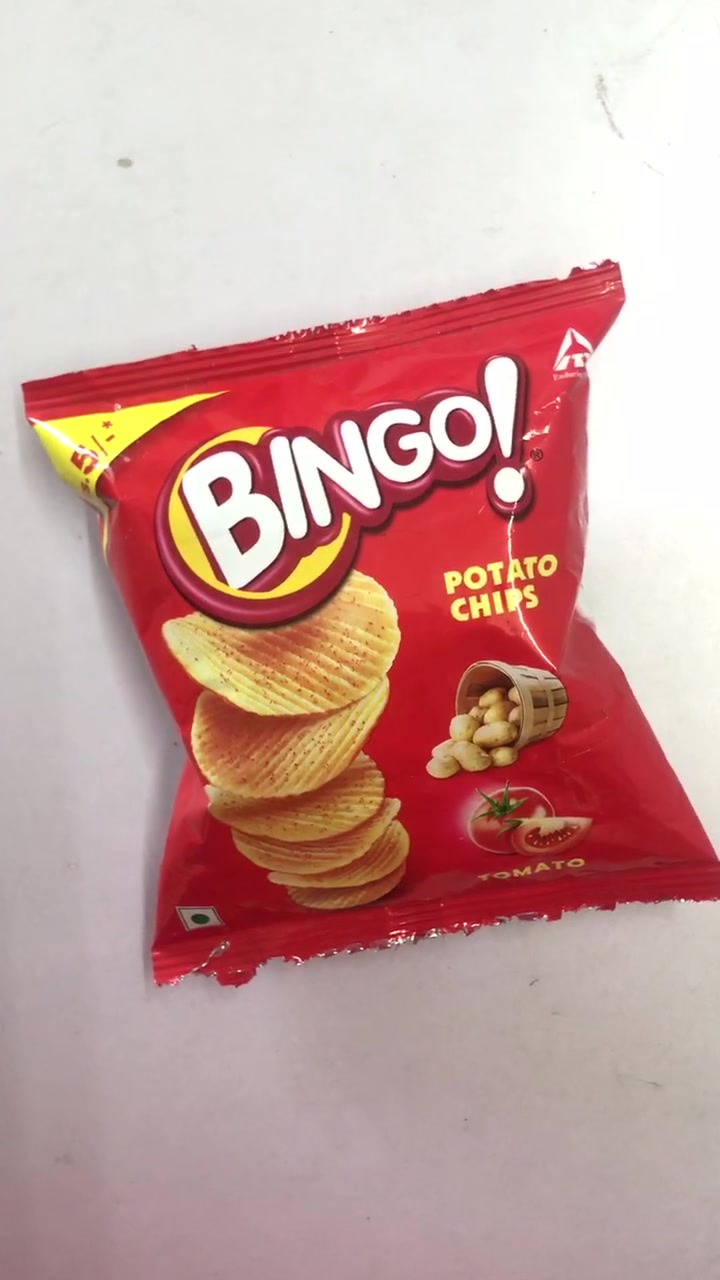Bingo: (27, 289, 720, 968)
